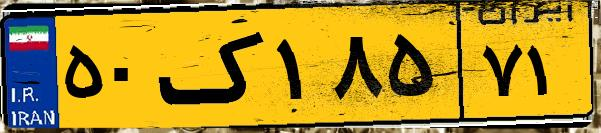0: (110, 28, 158, 98)
1: (270, 28, 330, 110), (525, 38, 570, 115)
5: (385, 28, 445, 110), (57, 26, 110, 100)
7: (475, 38, 525, 113)
8: (330, 28, 385, 110)
ک: (158, 12, 270, 120)
